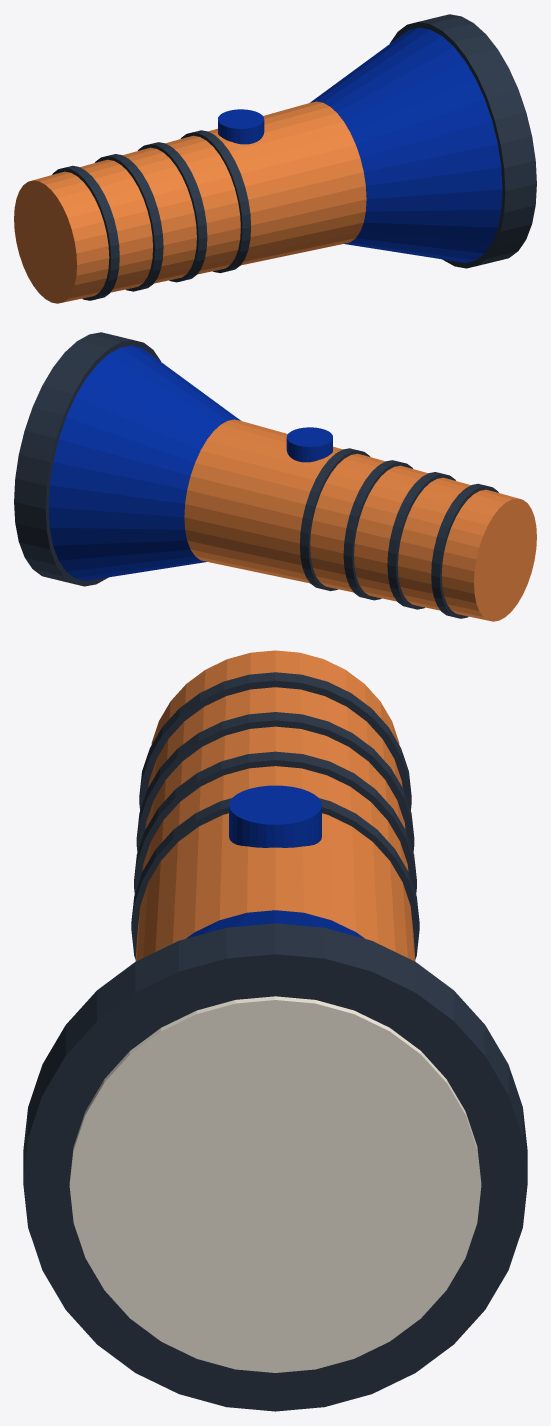
The model's file is flashlight.glb.
The picture shows the model from 3 angles, top to bottom: view 1: azimuth 30°, elevation 25°; view 2: azimuth 150°, elevation 25°; view 3: azimuth 270°, elevation 25°; orthographic projection. The views are drawn at different scales.
Visible parts, largest first — view 1: grip, head, bezel, grip ring 3, grip ring 2, grip ring 1, grip ring 0, switch; view 2: grip, head, bezel, grip ring 3, grip ring 2, grip ring 1, grip ring 0, switch; view 3: lens, bezel, grip, switch, grip ring 0, grip ring 1, grip ring 2, grip ring 3, head.
Boxes of the visible parts, <box> form: grip: <box>14,101,366,303</box>; head: <box>310,27,502,262</box>; bezel: <box>389,14,536,268</box>; grip ring 3: <box>180,130,250,273</box>; grip ring 2: <box>138,142,207,282</box>; grip ring 1: <box>95,154,163,291</box>; grip ring 0: <box>52,165,119,300</box>; switch: <box>218,109,264,144</box>; grip: <box>184,419,536,621</box>; head: <box>48,345,240,580</box>; bezel: <box>14,332,161,586</box>; grip ring 3: <box>300,448,370,591</box>; grip ring 2: <box>343,460,412,600</box>; grip ring 1: <box>387,472,455,609</box>; grip ring 0: <box>431,483,498,618</box>; switch: <box>286,427,332,462</box>; lens: <box>69,996,481,1372</box>; bezel: <box>23,923,527,1411</box>; grip: <box>135,650,415,961</box>; switch: <box>229,785,321,847</box>; grip ring 0: <box>139,672,411,810</box>; grip ring 1: <box>136,712,414,852</box>; grip ring 2: <box>134,751,416,894</box>; grip ring 3: <box>131,798,419,959</box>; head: <box>186,910,364,938</box>.
Size of the model in its own units: 1.5 by 0.76 by 0.76.
